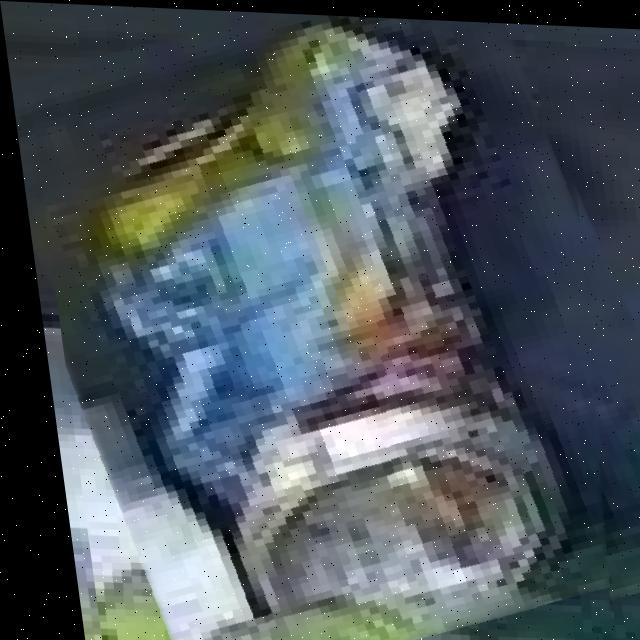can: (35, 9, 600, 640)
